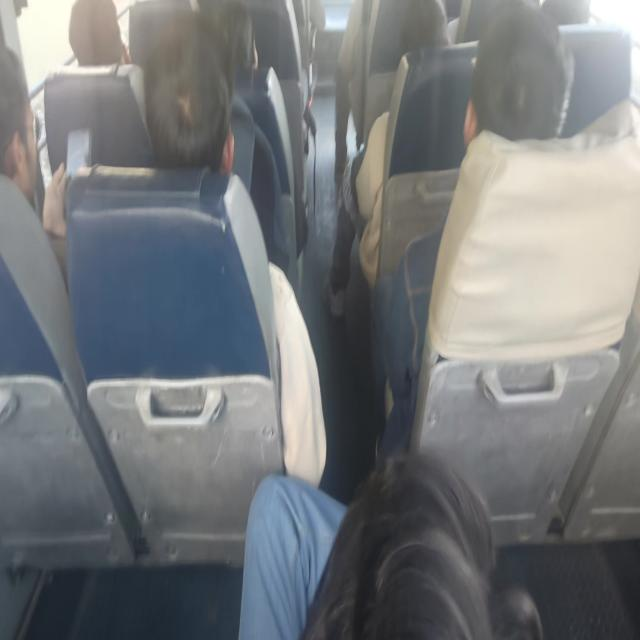person: (336, 456, 572, 640), (139, 26, 242, 172), (472, 27, 574, 146), (0, 52, 52, 196), (70, 0, 128, 65), (207, 4, 263, 65), (68, 0, 125, 55), (404, 0, 456, 46)
